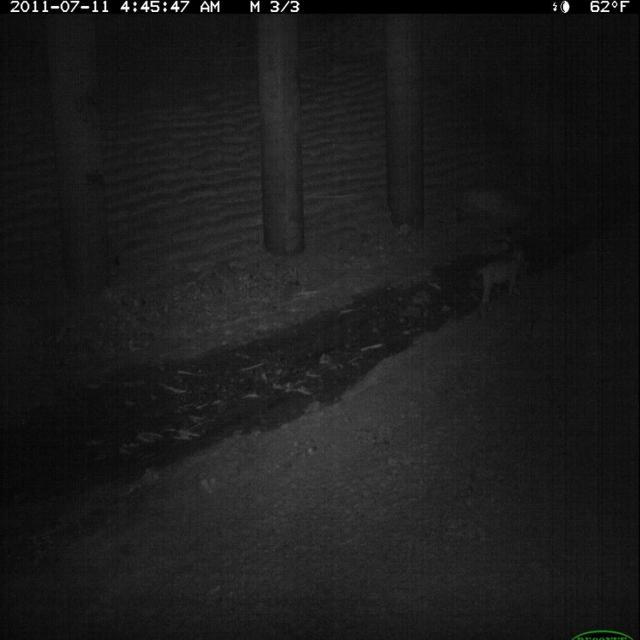bobcat: (475, 240, 526, 319)
